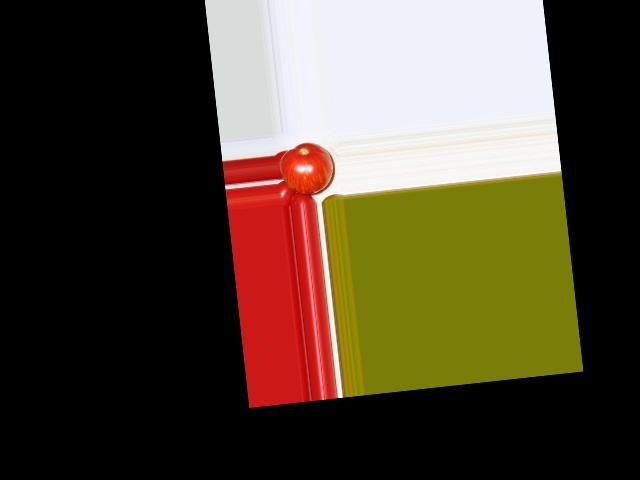tomato: (277, 139, 336, 197)
